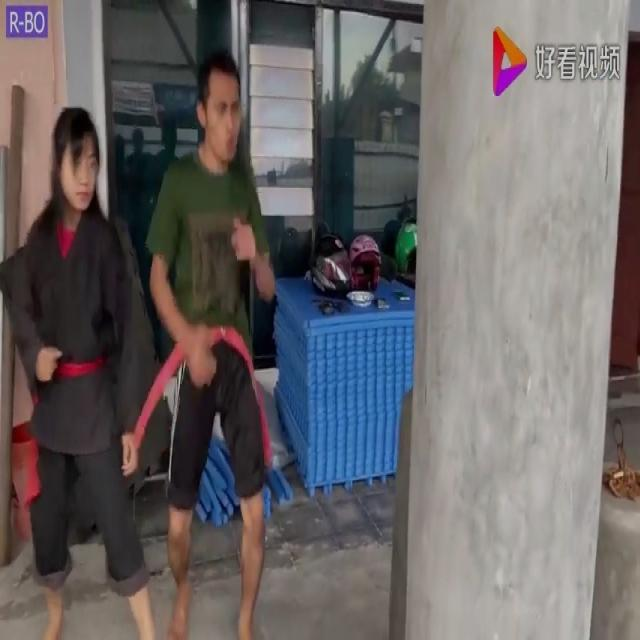non-fight: (133, 39, 289, 638), (1, 100, 160, 637)
